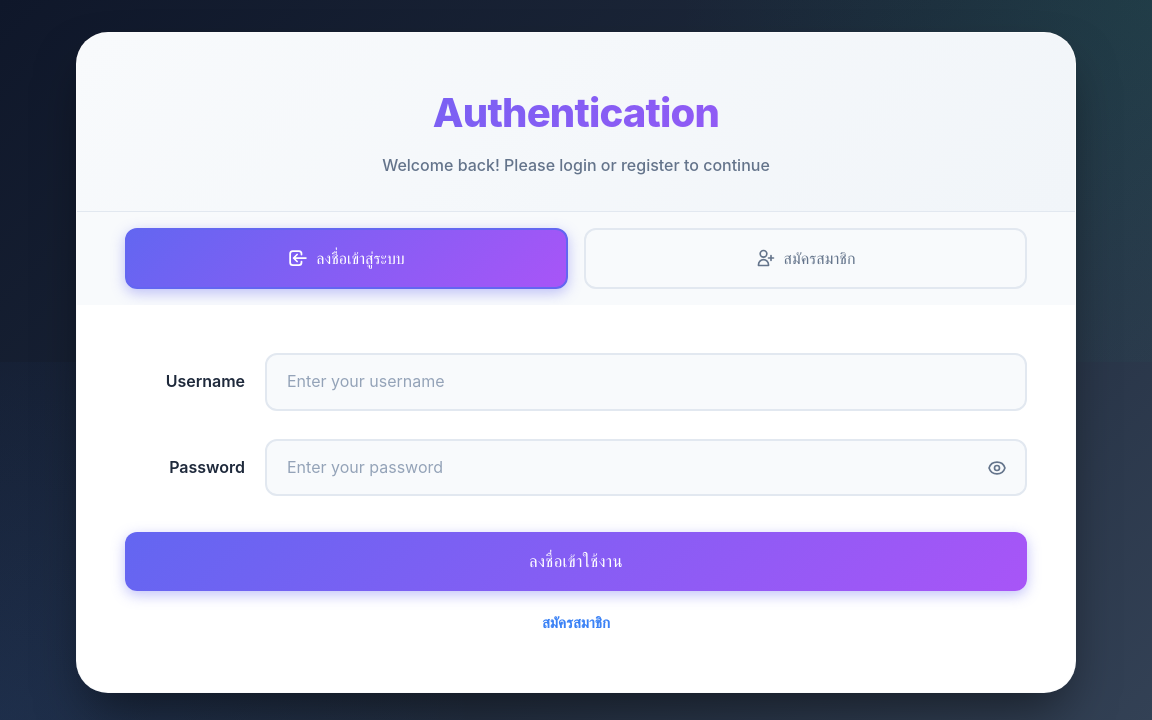
Test case: AuthView › switches to register form when register tab is clicked
The width and height of the screenshot is (1152, 720).
Click the button with class "tab" showing "สมัครสมาชิก": x=806, y=258 [584,228,1027,289]
(page scrolled)
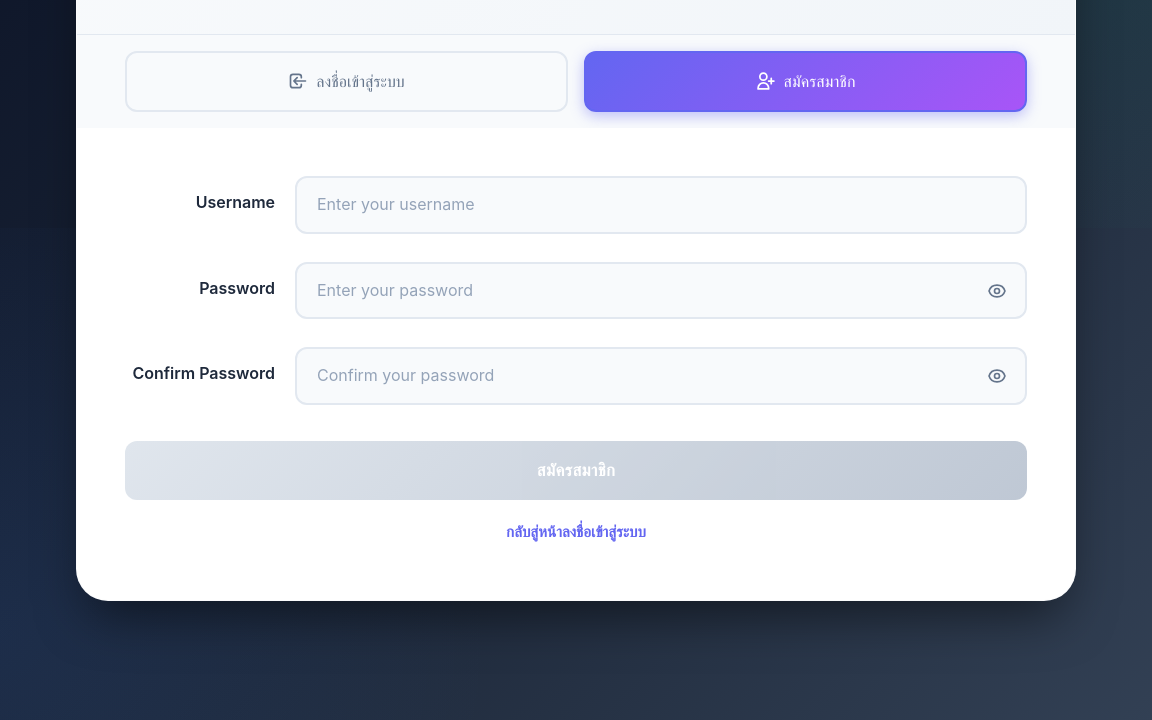
Now the element that starts with "Username" is shown, box [125,176,1027,544]
